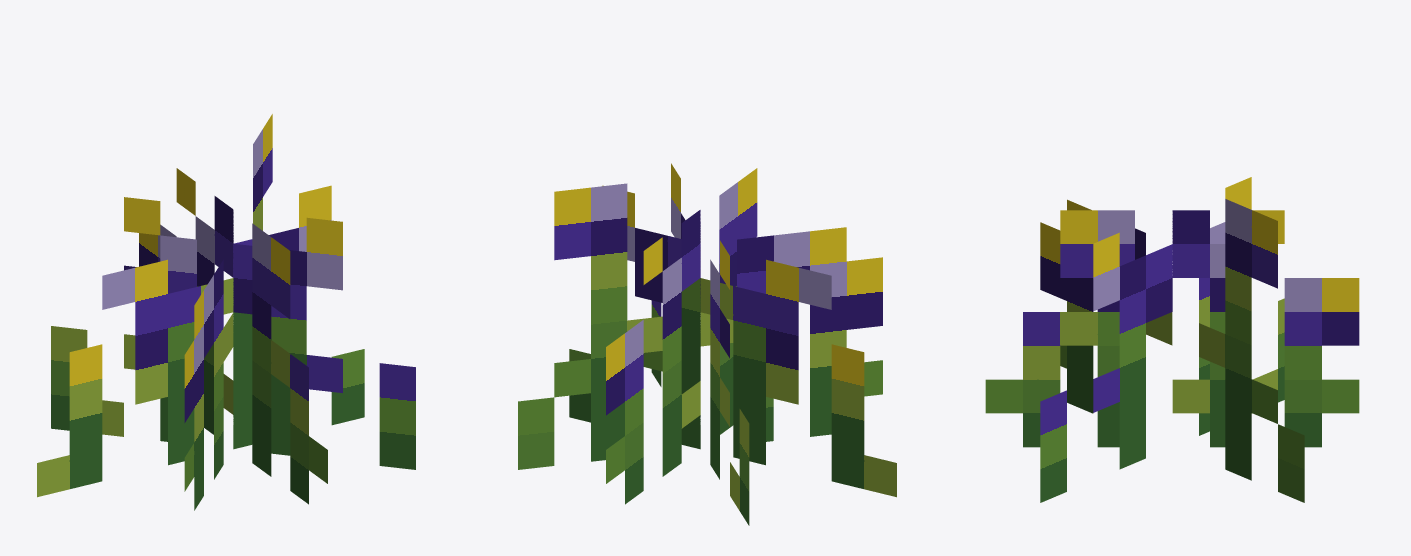
File: IrisSprout.fbx
3 views of the same model, side by side, from view 1: azimuth 30°, elevation 25°; view 2: azimuth 150°, elevation 25°; view 3: azimuth 270°, elevation 25° (orthographic).
Parts seen in each view (by area): view 1: plane; view 2: plane; view 3: plane.
Part boxes in pixels (x1=…): plane: x1=37, y1=114, x2=415, y2=510; plane: x1=518, y1=163, x2=896, y2=525; plane: x1=985, y1=177, x2=1359, y2=502.
Size of the model in its own units: 75 by 62.5 by 75.
1 material, 1 textured.
